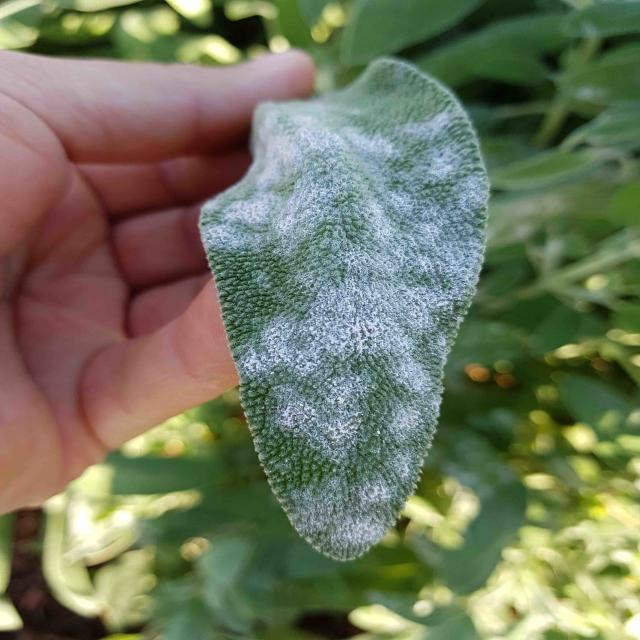Powdery Mildew: (196, 56, 491, 562)
